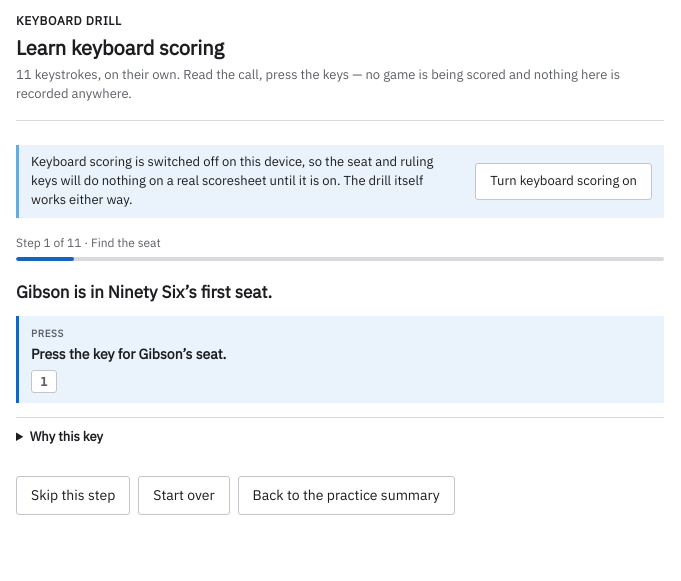
Scenario: the drill itself › skipping a step moves on without claiming the key was pressed
Step 1. Click the button "Skip this step" → (73, 496), box x1=16 y1=476 x2=130 y2=515
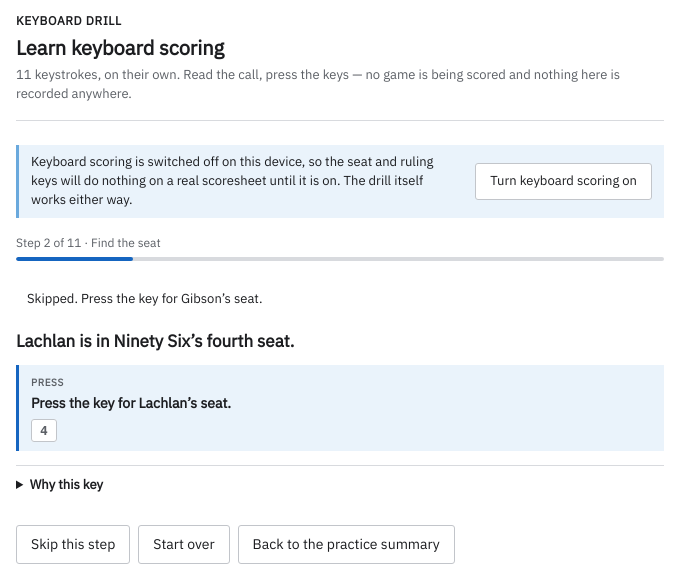
Expected: the message shows "Skipped.", x1=27 y1=290 x2=262 y2=307
